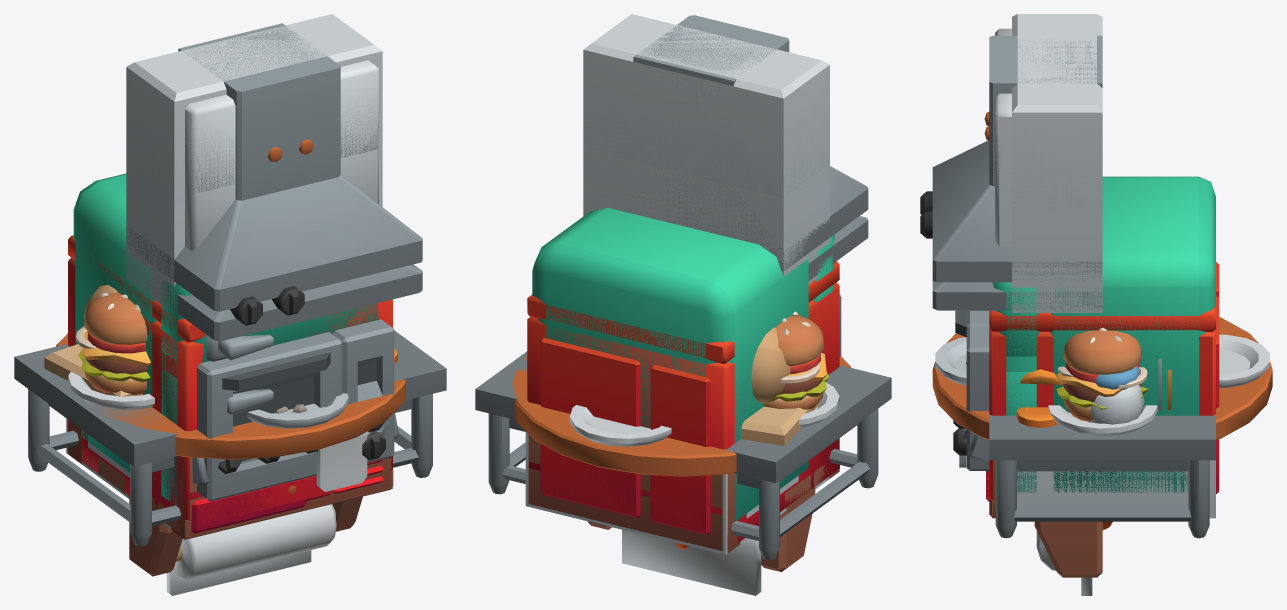
The model's file is kitchen.glb.
3 renders of one model, left to right at view 1: azimuth 30°, elevation 25°; view 2: azimuth 150°, elevation 25°; view 3: azimuth 270°, elevation 25°, orthographic. The views are drawn at different scales.
Parts seen in each view (by area): view 1: extractorhood, kitchencabinet, kitchentable_A_large, oven, oven_door, shelf_papertowel, table_round_A_decorated, fridge_A, table_round_A, kitchencabinet_half, fridge_A_door_top, stove_multi (+7 smaller); view 2: kitchencabinet, fridge_A, oven, kitchencabinet_half, kitchentable_A_large, extractorhood, table_round_A, table_round_A_decorated, shelf_papertowel, crate, kitchentable_A_large_decorated, stove_multi (+2 smaller); view 3: kitchencabinet, fridge_A, extractorhood, kitchentable_A_large, oven, table_round_A_decorated, kitchencounter_straight_A, kitchencabinet_half, table_round_A, shelf_papertowel, kitchentable_A_large_decorated, kitchencounter_sink (+5 smaller).
Part boxes in pixels (bbox=[...]): extractorhood: bbox=[126, 23, 422, 341]; kitchencabinet: bbox=[126, 14, 382, 313]; kitchentable_A_large: bbox=[14, 330, 446, 546]; oven: bbox=[68, 235, 394, 529]; oven_door: bbox=[197, 332, 342, 501]; shelf_papertowel: bbox=[129, 488, 362, 595]; table_round_A_decorated: bbox=[68, 292, 348, 428]; fridge_A: bbox=[73, 173, 157, 488]; table_round_A: bbox=[56, 333, 405, 459]; kitchencabinet_half: bbox=[126, 51, 382, 204]; fridge_A_door_top: bbox=[161, 279, 378, 362]; stove_multi: bbox=[68, 412, 398, 533]; kitchencabinet: bbox=[583, 14, 829, 284]; fridge_A: bbox=[532, 208, 808, 521]; oven: bbox=[527, 261, 839, 542]; kitchencabinet_half: bbox=[583, 50, 829, 197]; kitchentable_A_large: bbox=[475, 351, 891, 560]; extractorhood: bbox=[583, 15, 868, 280]; table_round_A: bbox=[512, 356, 851, 476]; table_round_A_decorated: bbox=[569, 311, 839, 446]; shelf_papertowel: bbox=[587, 481, 815, 595]; crate: bbox=[528, 434, 839, 553]; kitchentable_A_large_decorated: bbox=[741, 327, 824, 445]; stove_multi: bbox=[528, 438, 839, 532]; kitchencabinet: bbox=[995, 14, 1102, 312]; fridge_A: bbox=[1050, 176, 1215, 492]; extractorhood: bbox=[920, 35, 1102, 310]; kitchentable_A_large: bbox=[989, 414, 1215, 538]; oven: bbox=[953, 262, 1219, 501]; table_round_A_decorated: bbox=[935, 327, 1269, 436]; kitchencounter_straight_A: bbox=[1017, 415, 1215, 518]; kitchencabinet_half: bbox=[984, 112, 1102, 210]; table_round_A: bbox=[932, 317, 1272, 439]; shelf_papertowel: bbox=[1034, 521, 1102, 595]; kitchentable_A_large_decorated: bbox=[1016, 366, 1171, 427]; kitchencounter_sink: bbox=[1017, 414, 1215, 518].
Bounding box in the file's own units: 3 × 4.91 × 3.11.
Materials: 1 (1 with a texture image).
